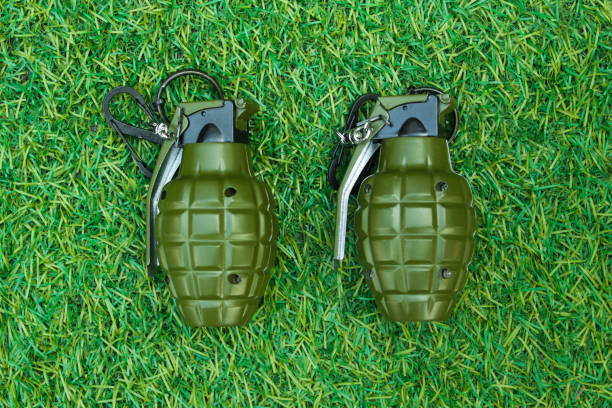e1: (101, 69, 280, 327), (323, 81, 477, 322)
